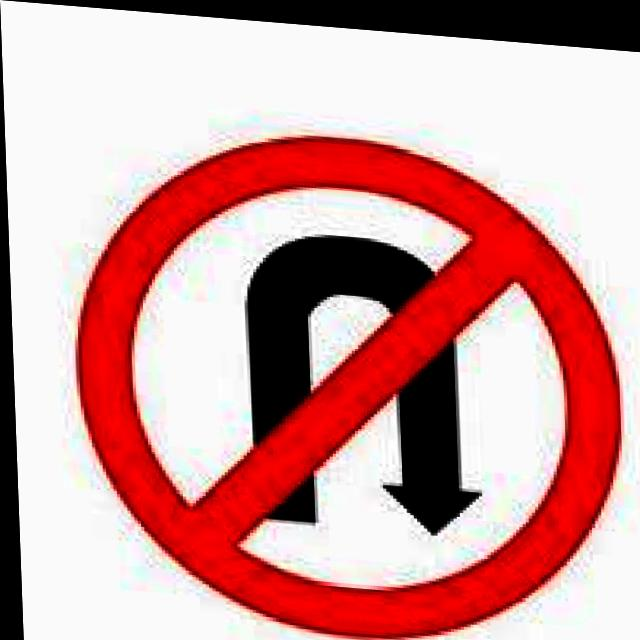U_TURN_PROHIBITED: (53, 87, 640, 640)
